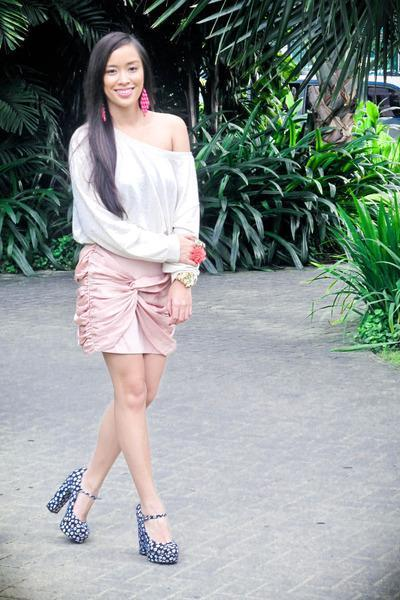shirt: (69, 123, 203, 286)
shoe: (47, 474, 177, 564)
skirt: (66, 246, 197, 358)
